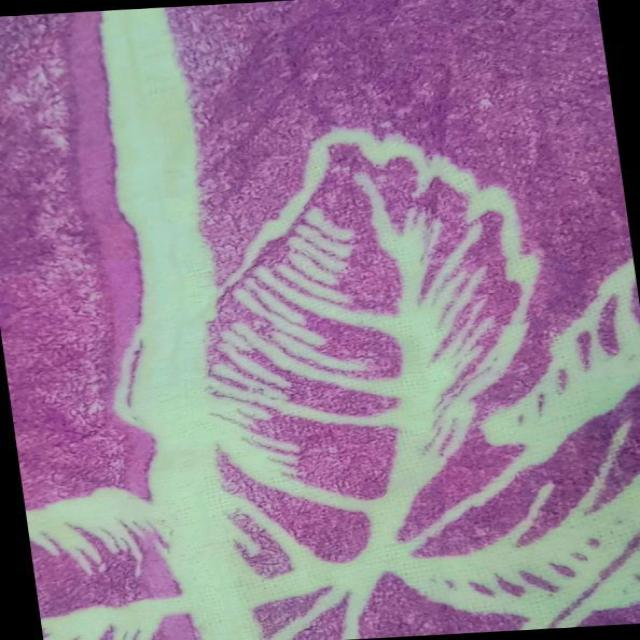selvet: (96, 5, 282, 640)
